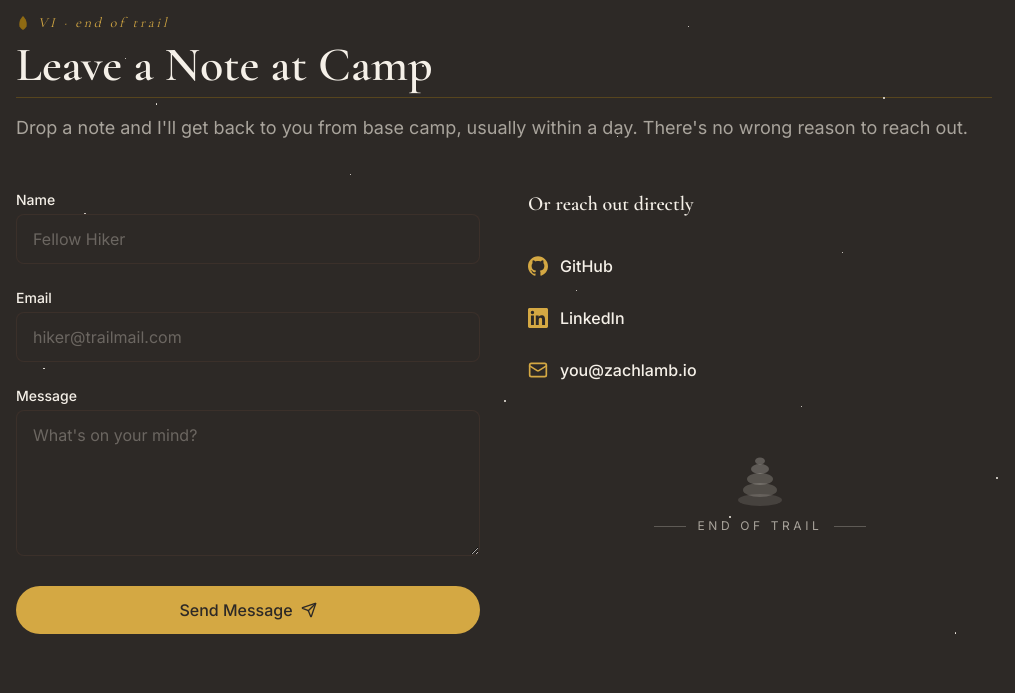
Scenario: Contact › shows API error message on failed submission
Type "Test" into the field labelled "Name" at x=248, y=239, box [16, 214, 480, 264]
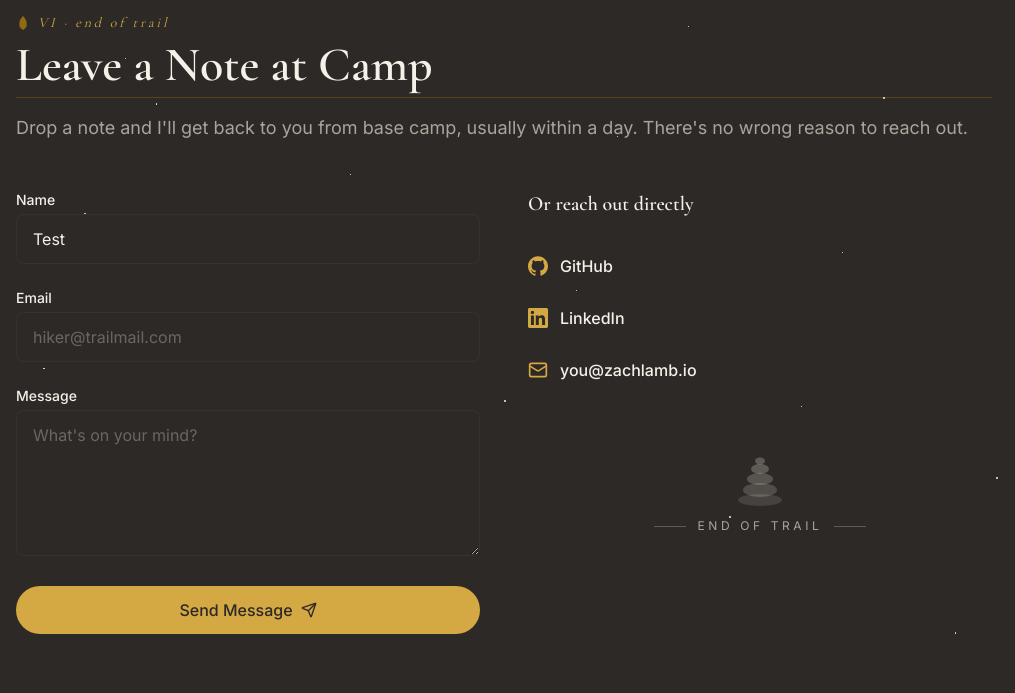
Type "bad-email" into the field labelled "Email" at x=248, y=337, box [16, 312, 480, 362]
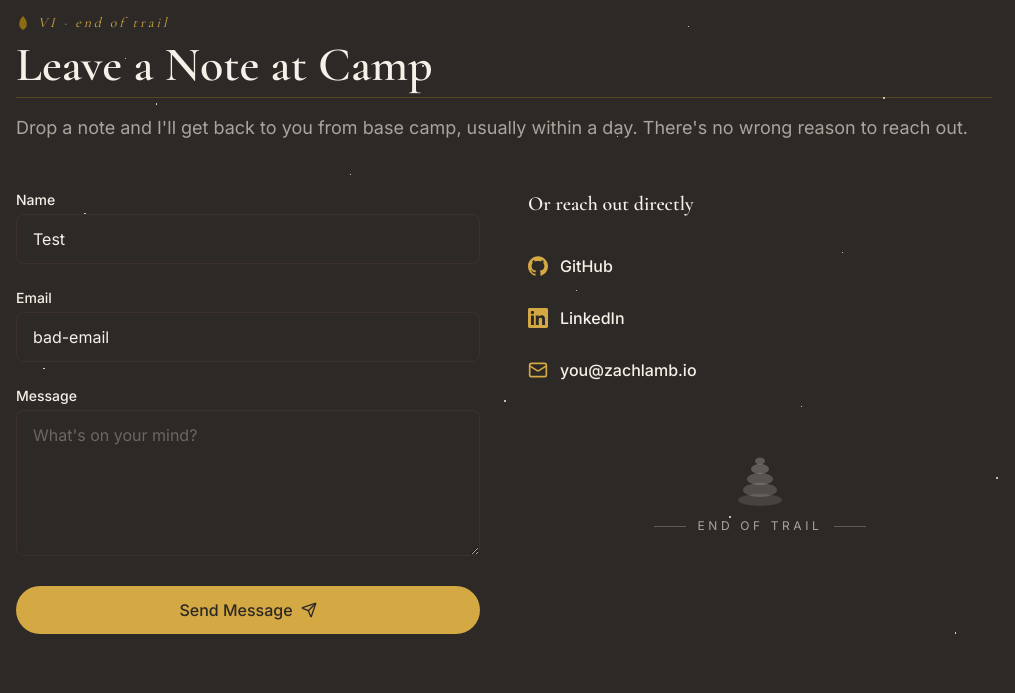
Type "Hello" into the text box labelled "Message" at x=248, y=483, box [16, 410, 480, 556]
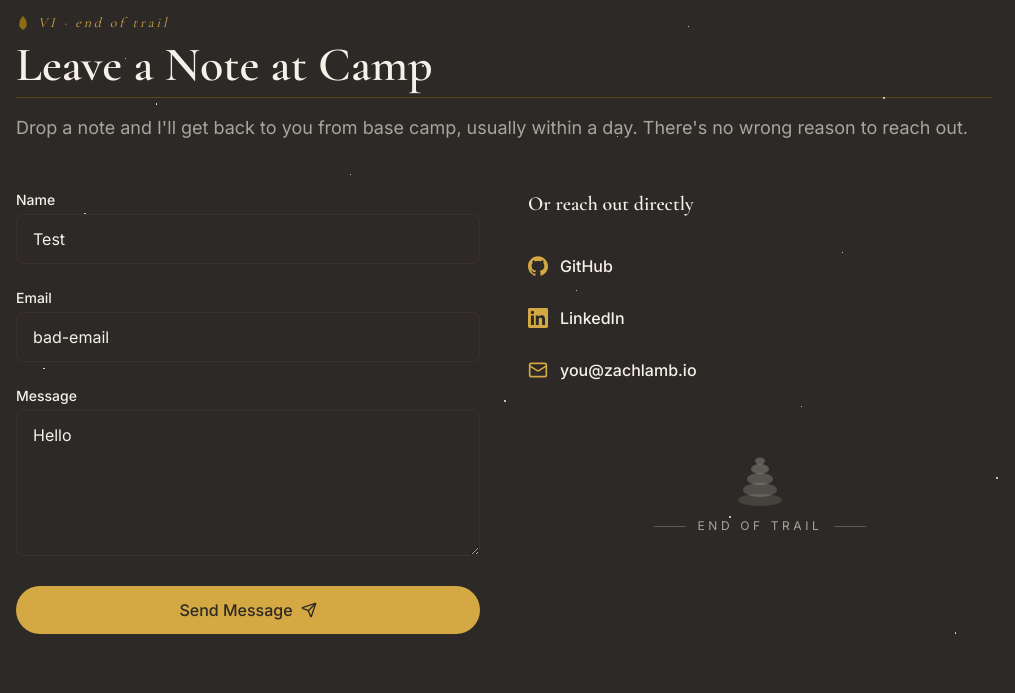
Submit the text "Send Message", box [16, 190, 480, 658]
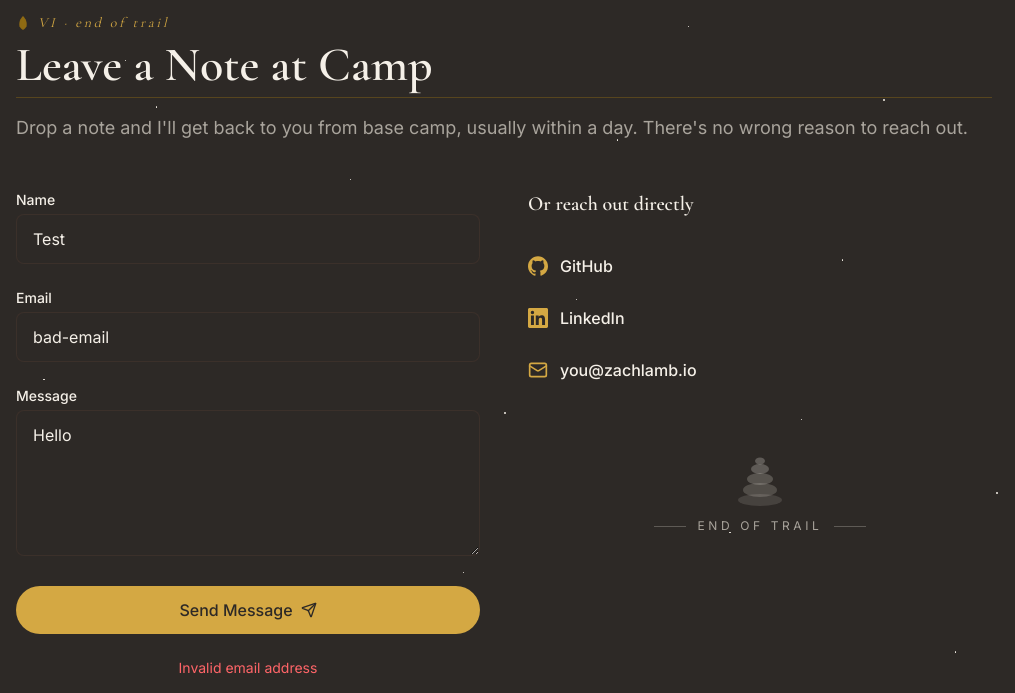
Check: the text "Invalid email address" is shown, box [179, 659, 317, 676]
